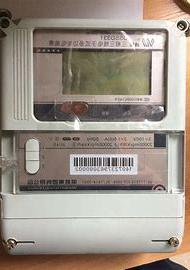digital: (2, 18, 185, 254)
